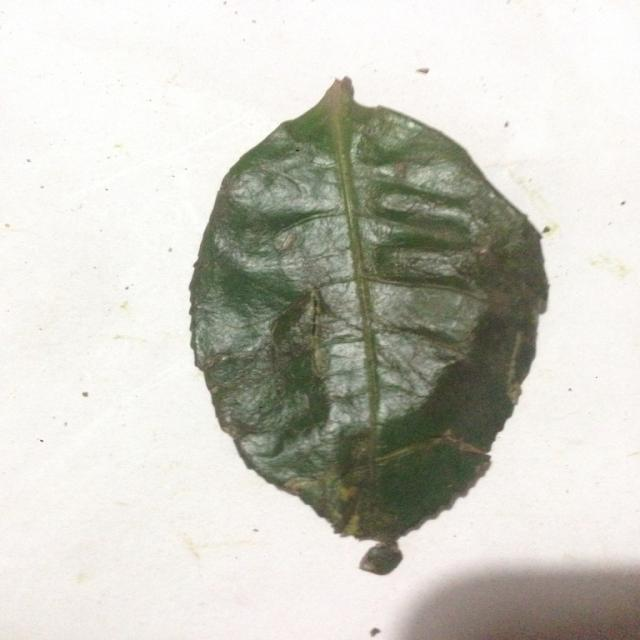Red Leaf Spot: (195, 57, 556, 555)
